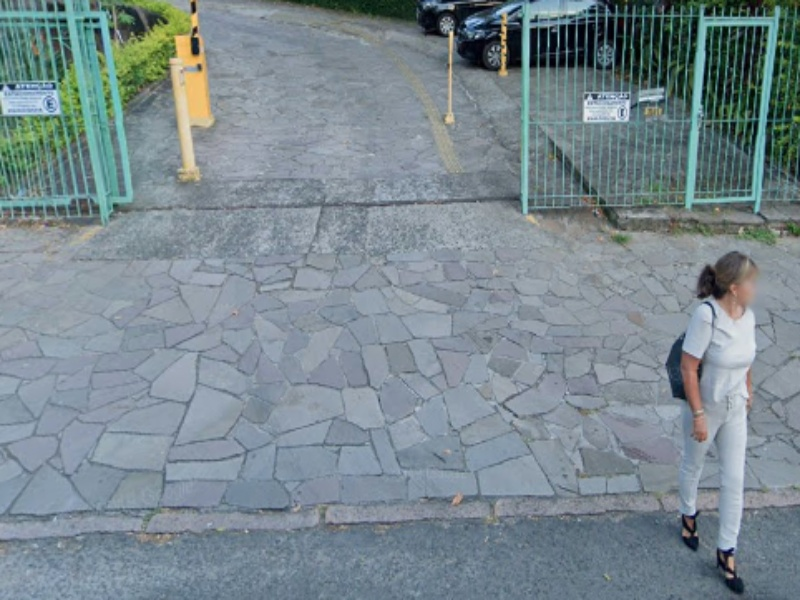g76: (1, 466, 661, 593)
